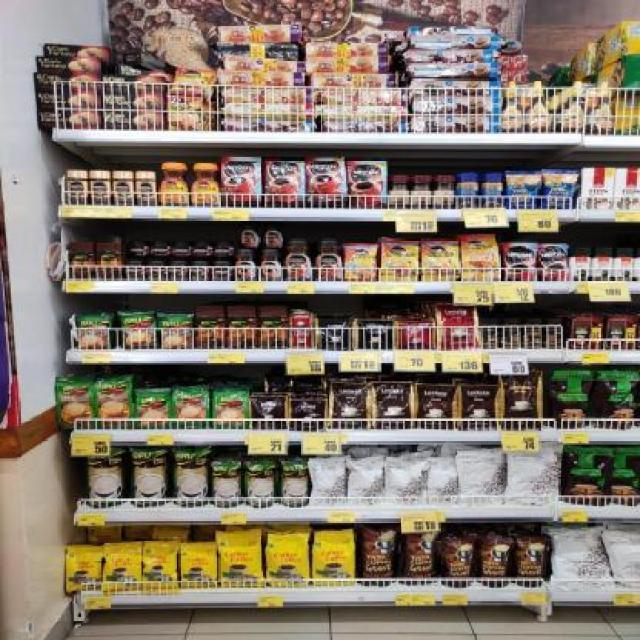Coffee: (221, 157, 260, 206), (265, 161, 304, 208), (308, 159, 346, 206), (349, 160, 386, 208), (461, 235, 498, 280), (421, 239, 458, 280), (381, 240, 417, 281), (167, 93, 202, 130), (158, 163, 188, 206), (503, 243, 536, 280), (191, 163, 218, 207), (344, 243, 376, 280), (314, 240, 342, 281), (285, 240, 312, 281), (541, 244, 568, 280), (66, 171, 88, 205), (259, 249, 282, 280), (136, 172, 156, 206), (92, 170, 110, 204), (114, 171, 132, 205), (237, 249, 256, 280), (238, 222, 260, 248), (263, 223, 283, 249), (126, 238, 149, 258), (123, 260, 146, 279), (213, 261, 233, 280), (173, 239, 192, 258), (195, 240, 214, 259), (216, 240, 235, 259), (169, 261, 188, 280), (152, 238, 170, 257), (148, 260, 166, 279), (191, 261, 208, 280)
